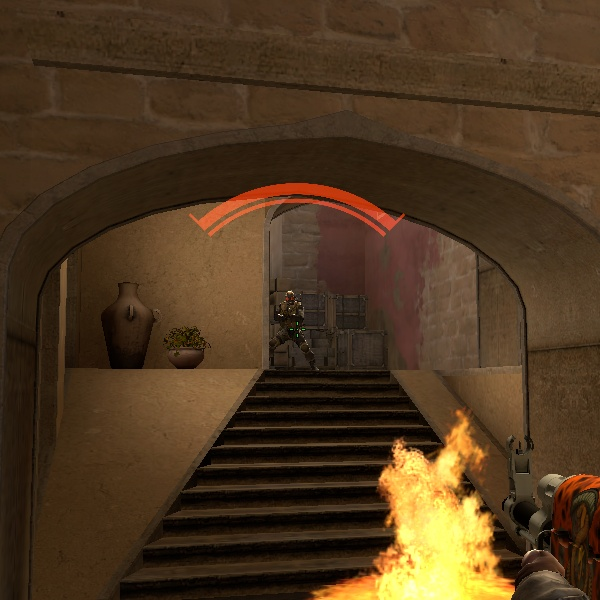t_body: (267, 284, 313, 369)
t_head: (279, 286, 301, 310)
